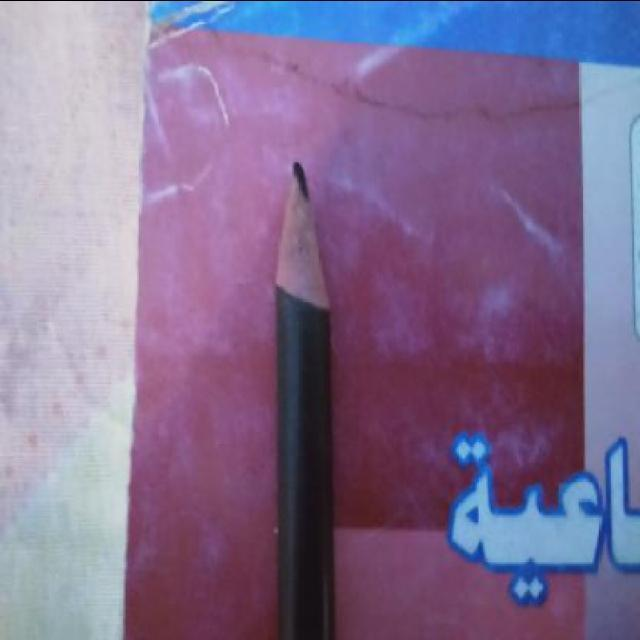Pencil: (263, 151, 339, 331)
